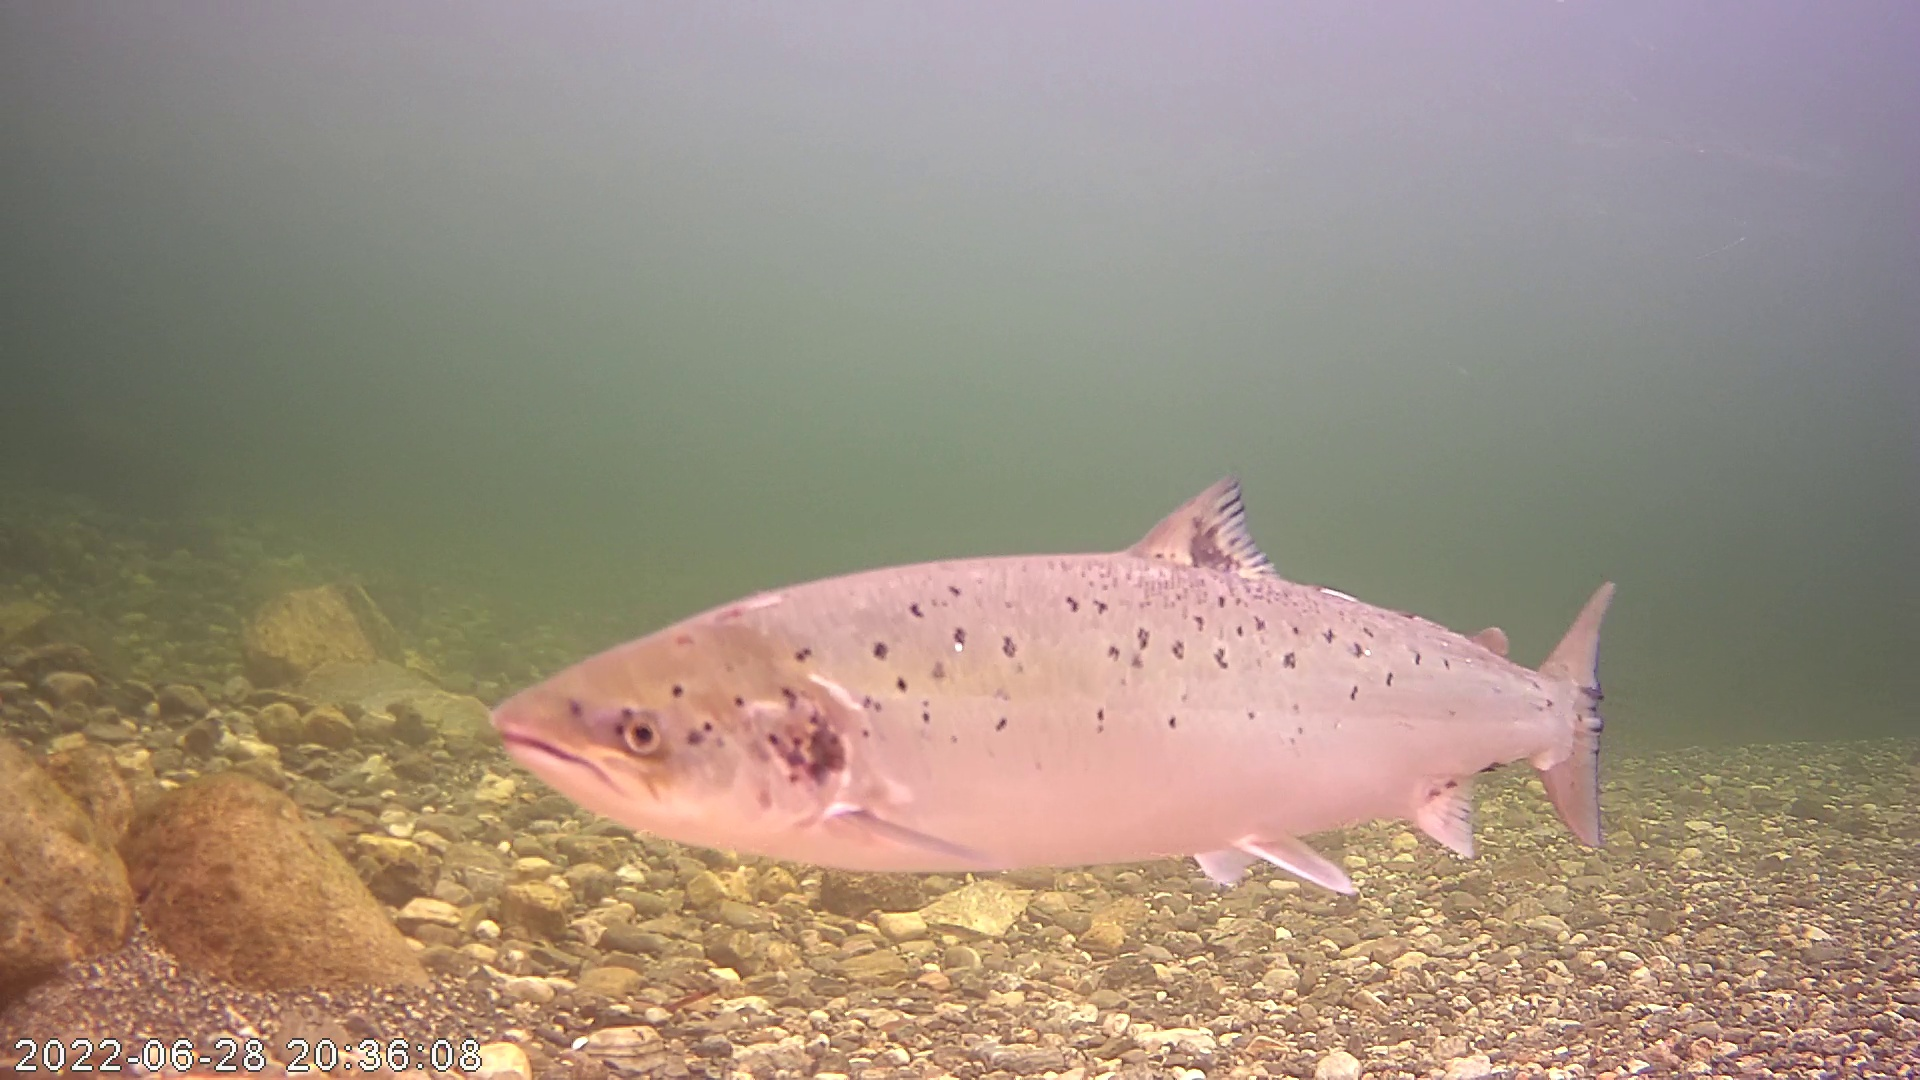salmon: (463, 434, 1581, 889)
